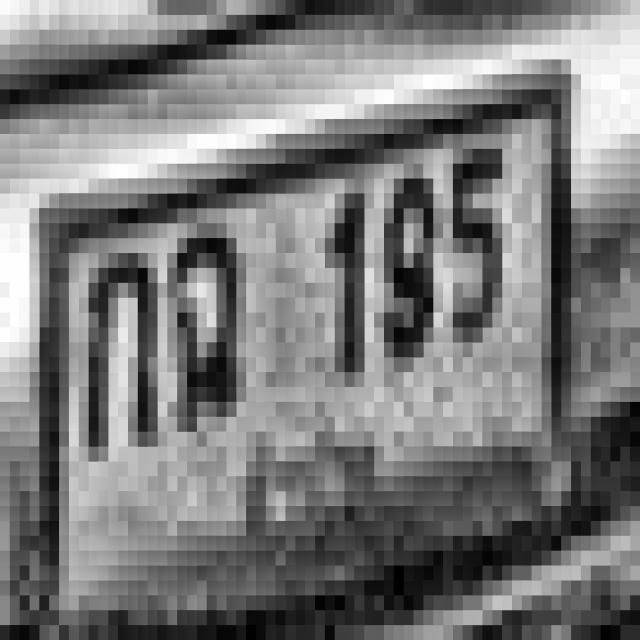license-plate: (34, 67, 573, 640)
